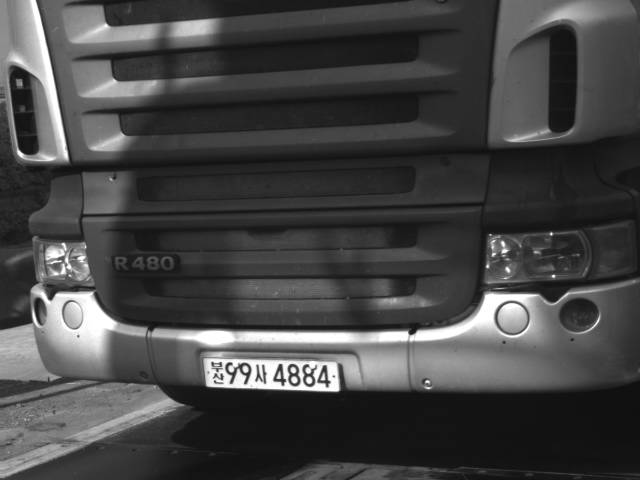car: (1, 1, 639, 413)
plate: (200, 356, 344, 392)
